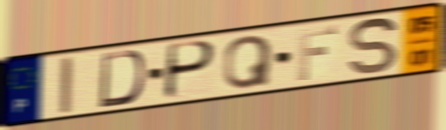D: (96, 48, 146, 110)
F: (296, 24, 340, 83)
I: (58, 54, 75, 116)
P: (161, 39, 218, 102)
Q: (221, 33, 274, 92)
S: (347, 16, 400, 76)
